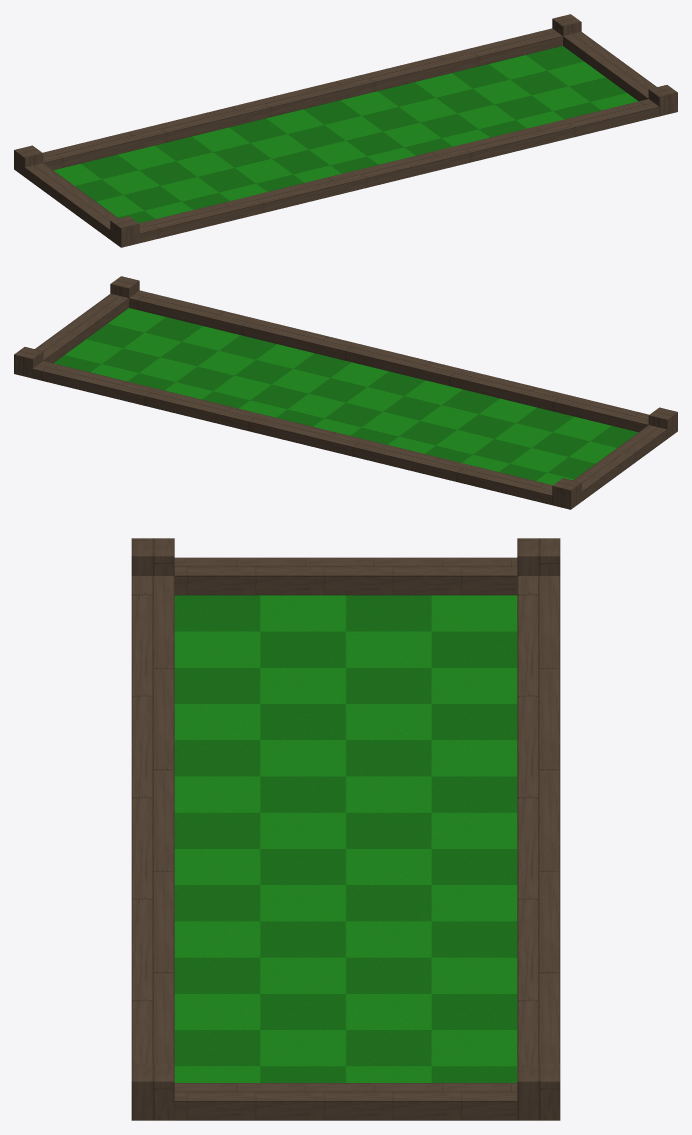
Rendered from level-1.obj.
The picture shows the model from 3 angles, top to bottom: view 1: azimuth 30°, elevation 25°; view 2: azimuth 150°, elevation 25°; view 3: azimuth 270°, elevation 25°; orthographic projection. The views are drawn at different scales.
Parts seen in each view (by area): view 1: ground.000, wall.000, wall.003, wall.002, wall.001, wall-corner.001, wall-corner.000, wall-corner.002, wall-corner.003; view 2: ground.000, wall.003, wall.000, wall.002, wall.001, wall-corner.002, wall-corner.003, wall-corner.001, wall-corner.000; view 3: ground.000, wall.000, wall.003, wall.002, wall.001, wall-corner.000, wall-corner.003, wall-corner.002, wall-corner.001.
Part boxes in pixels (box(x1,y1,x2,y2)): ground.000: box(53, 46, 638, 223); wall.000: box(139, 99, 659, 242); wall.003: box(43, 28, 562, 170); wall.002: box(24, 163, 118, 239); wall.001: box(563, 31, 656, 101); wall-corner.001: box(110, 216, 139, 247); wall-corner.000: box(648, 85, 677, 116); wall-corner.002: box(14, 145, 43, 176); wall-corner.003: box(552, 14, 581, 35); ground.000: box(53, 308, 638, 485); wall.003: box(32, 361, 552, 504); wall.000: box(129, 290, 648, 432); wall.002: box(573, 425, 667, 501); wall.001: box(35, 293, 128, 363); wall-corner.002: box(552, 478, 581, 509); wall-corner.003: box(14, 347, 43, 378); wall-corner.001: box(648, 407, 677, 438); wall-corner.000: box(110, 276, 139, 297); ground.000: box(174, 595, 517, 1082); wall.000: box(131, 576, 174, 1063); wall.003: box(517, 576, 560, 1063); wall.002: box(174, 557, 517, 595); wall.001: box(174, 1083, 517, 1120); wall-corner.000: box(131, 1063, 174, 1120); wall-corner.003: box(517, 1063, 560, 1120); wall-corner.002: box(517, 538, 560, 575); wall-corner.001: box(131, 538, 174, 575).
Bounding box in the file's own units: 4.57 × 0.1524 × 1.52.
